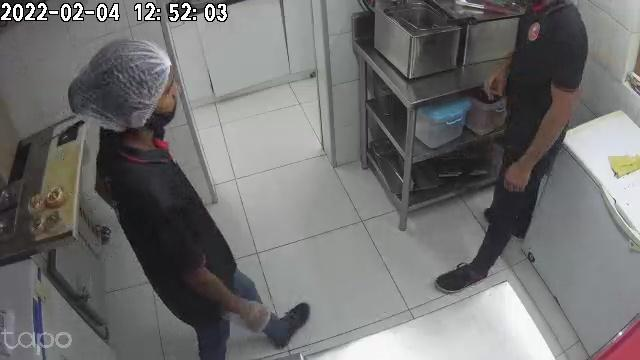no_gloves: (502, 154, 533, 194)
